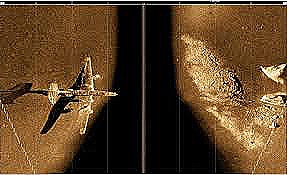aircraft: (42, 54, 119, 136)
